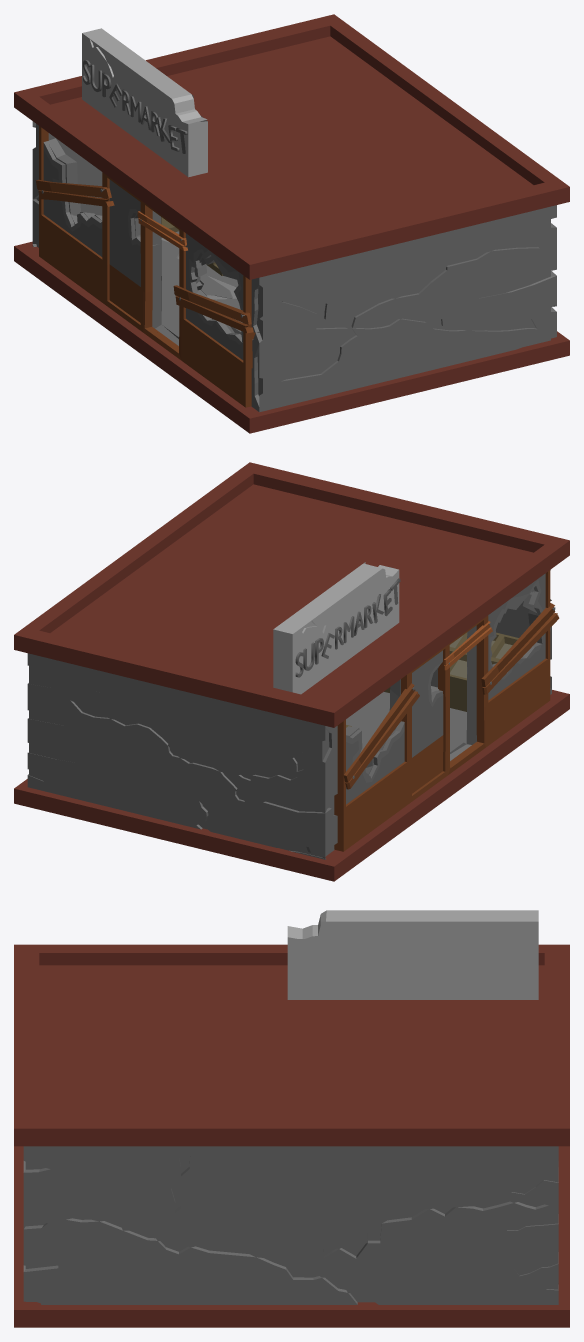
Rendered from supermarket.fbx.
3 renders of one model, top to bottom at view 1: azimuth 30°, elevation 25°; view 2: azimuth 150°, elevation 25°; view 3: azimuth 270°, elevation 25°, orthographic. The views are drawn at different scales.
Parts seen in each view (by area): view 1: Cube.001, Cube.051, Cube.041, Cube.011, Cube.037, Wooden Planks.002, Wooden Planks.041, Text.003, Wooden Planks.001, Text.005; view 2: Cube.001, Cube.051, Cube.041, Cube.011, Cube.037, Wooden Planks.041, Wooden Planks.002, Cube.055, Wooden Planks.001, Text.003; view 3: Cube.001, Cube.051, Cube.037, Cube.011.
Part boxes in pixels (x1,y1,x2,y2): Cube.001: (14,14,569,279); Cube.051: (32,121,556,412); Cube.041: (39,126,255,407); Cube.011: (14,241,569,433); Cube.037: (82,28,207,177); Wooden Planks.002: (173,285,253,333); Wooden Planks.041: (35,179,114,206); Text.003: (122,89,159,136); Wooden Planks.001: (137,211,187,250); Text.005: (83,60,111,97); Cube.001: (14,462,569,727); Cube.051: (27,569,551,859); Cube.041: (334,570,550,851); Cube.011: (14,690,569,881); Cube.037: (273,562,399,694); Wooden Planks.041: (343,683,419,789); Wooden Planks.002: (481,603,559,694); Cube.055: (450,632,518,711); Wooden Planks.001: (443,621,492,670); Text.003: (335,605,372,649); Cube.001: (14,944,569,1146); Cube.051: (23,1146,558,1304); Cube.037: (287,910,538,999); Cube.011: (14,1146,569,1327).
Size of the model in its own units: 877 by 587 by 1118.
